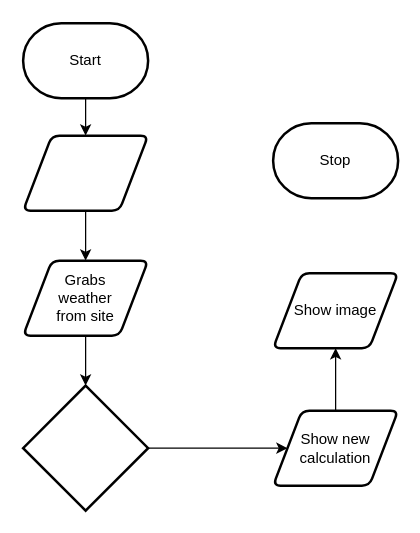
Some shapes in this 420 by 533 pixel diagram are drawn without their labels. The box of each missing label's shape, as (x1, y1, x2, y2) in pixels:
Convert kelvin to Celsius: (21, 384, 149, 511)
Grabs image from site: (21, 134, 149, 211)
